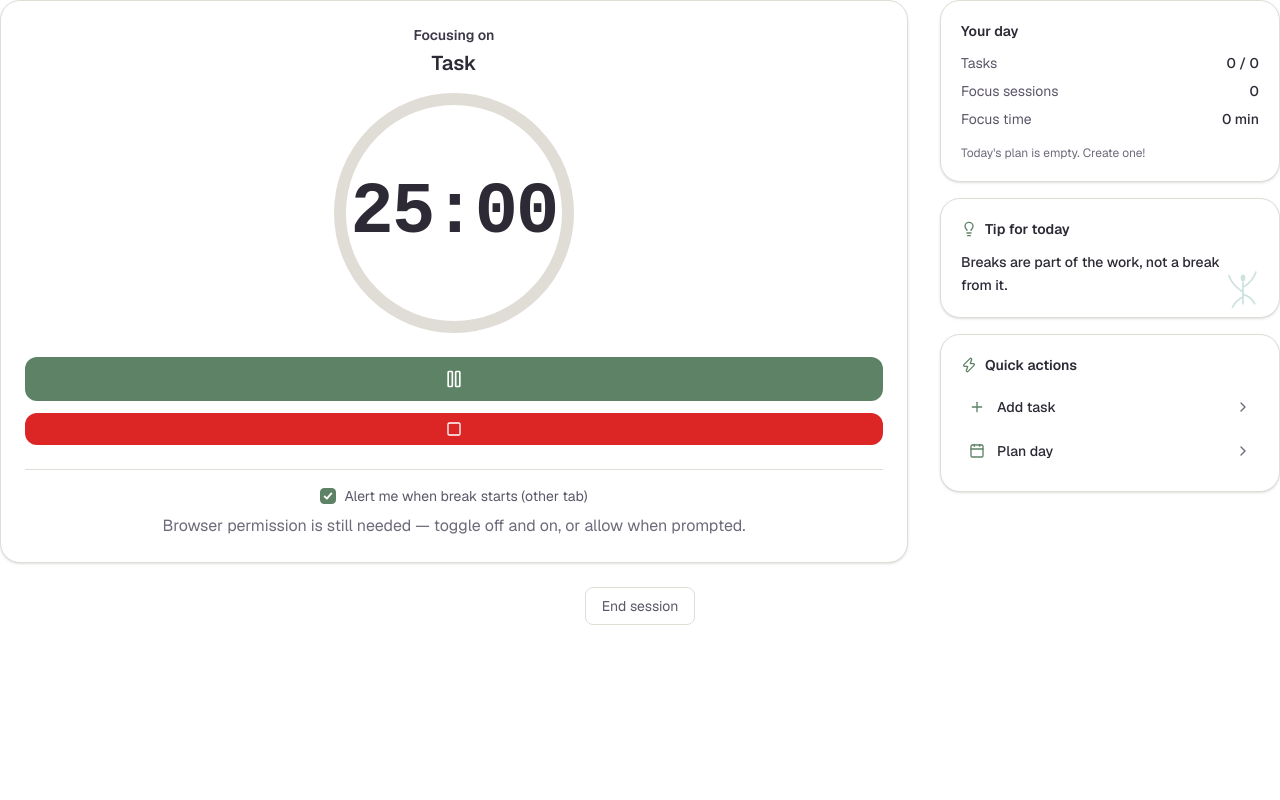
PomodoroDashboardBody end session while running › dismisses confirm overlay on cancel without ending session
The width and height of the screenshot is (1280, 800).
Click the button with test id "end-session-btn" at (640, 606), box [585,587,695,625]
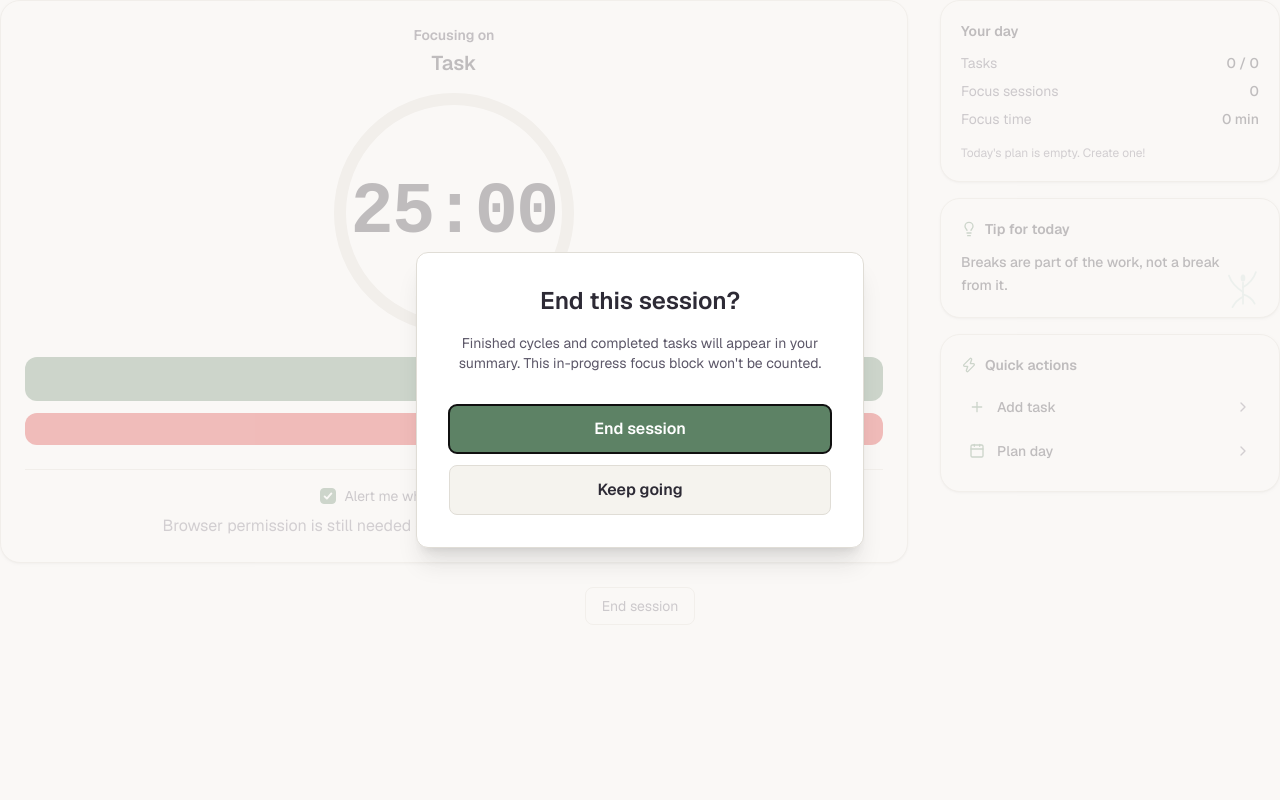
Click the button with test id "end-session-confirm-cancel-btn" at (640, 490), box [449,465,831,515]
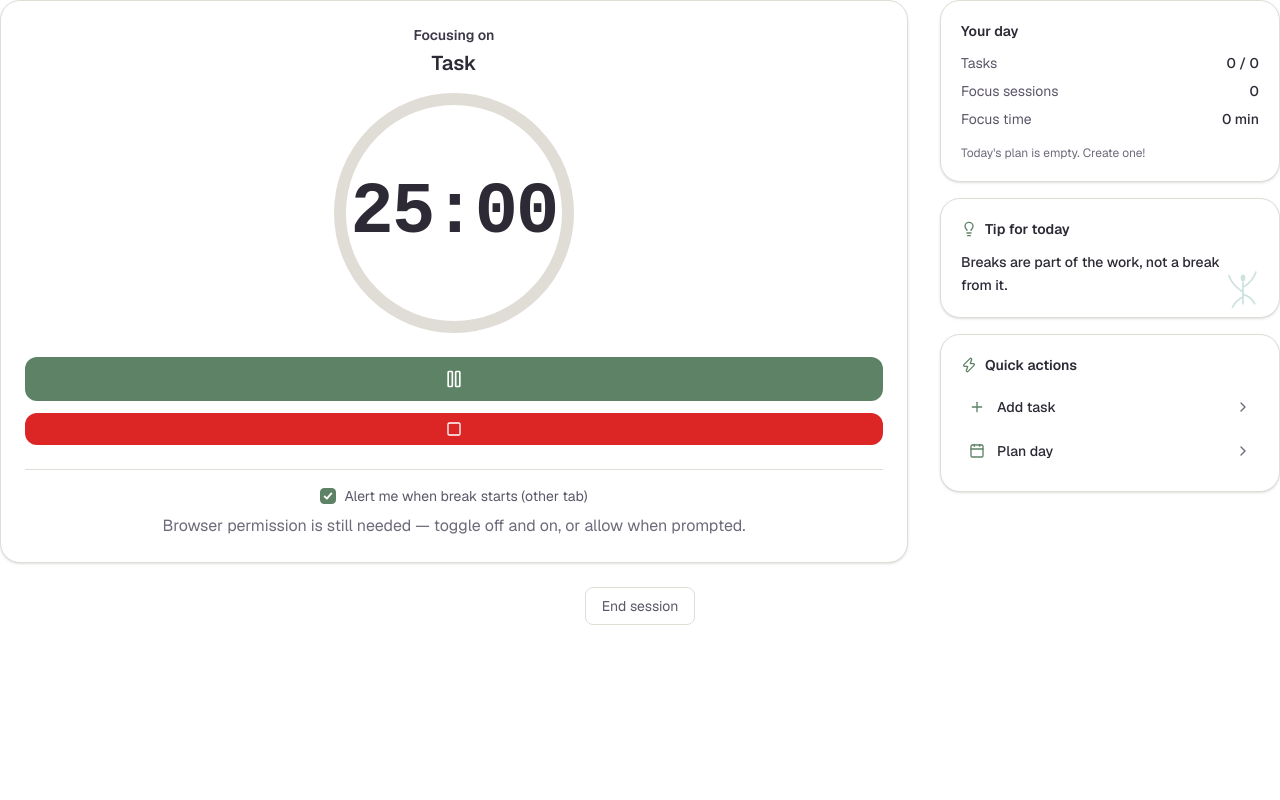
Now the dialog with test id "end-session-confirm-overlay" is gone
